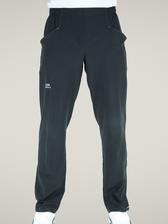clothoes: (34, 5, 133, 214)
